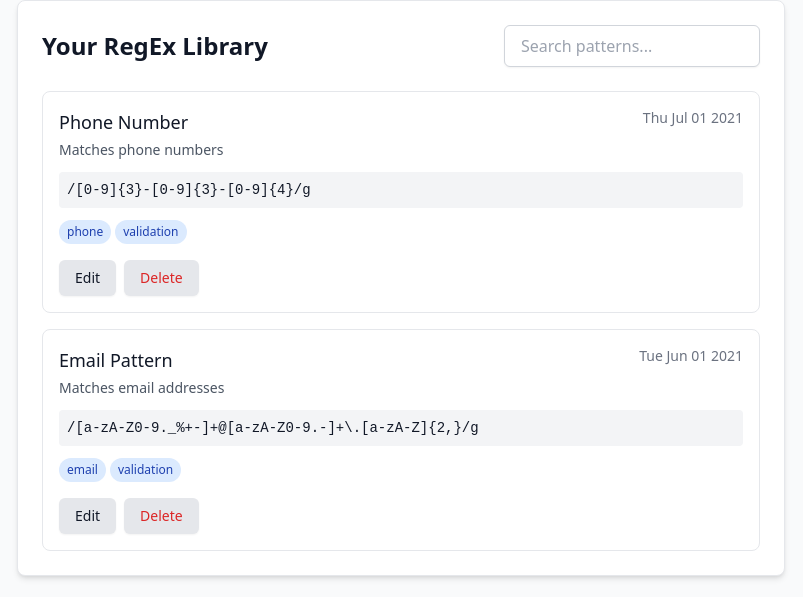
Test: RegexLibrary › allows filtering patterns by search term
# Enter a search term that should match only the email pattern
Type "email" into the field with placeholder "Search patterns..." at (632, 46), box [504,25,760,67]
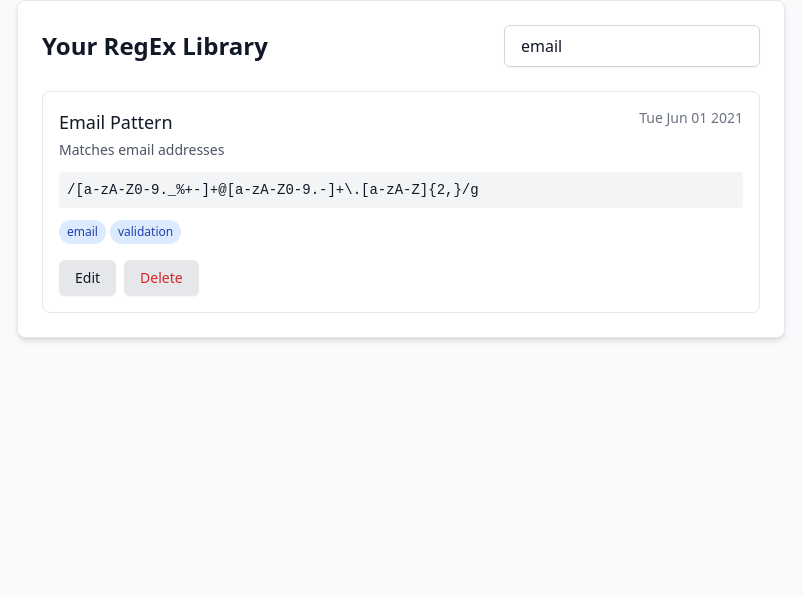
Expected: the heading "Email Pattern" is shown, [59,110,173,134]
Now the heading "Phone Number" is gone
